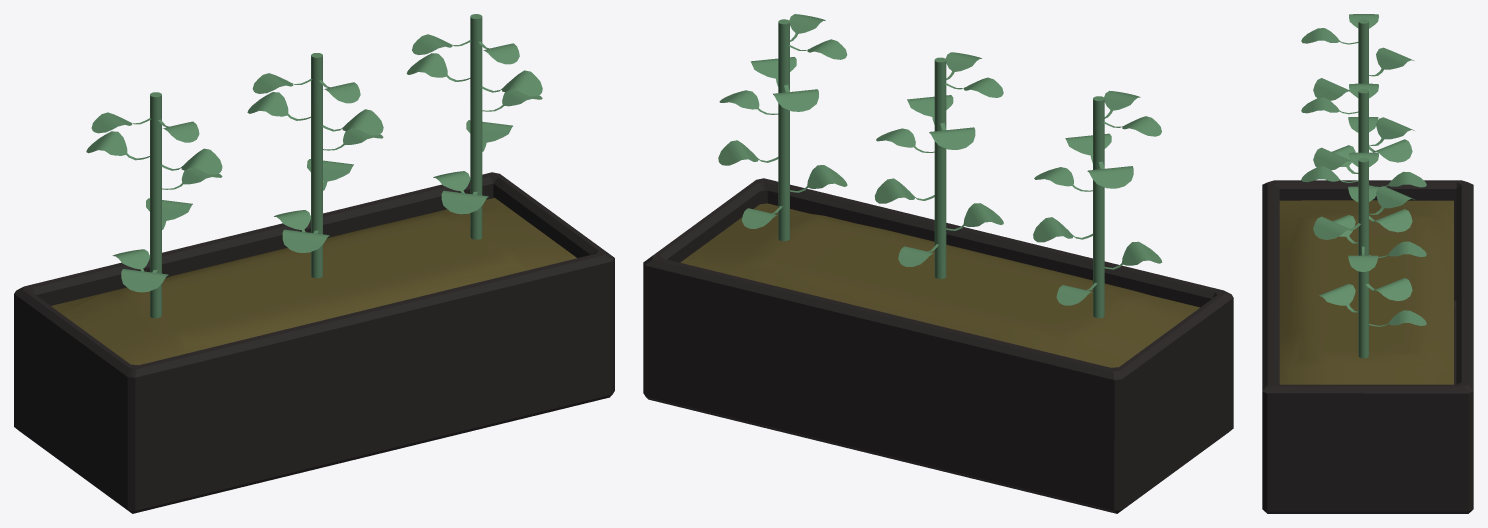
Rendered from Planting Vase.fbx.
The picture shows the model from 3 angles, left to right: view 1: azimuth 30°, elevation 25°; view 2: azimuth 150°, elevation 25°; view 3: azimuth 270°, elevation 25°; orthographic projection. The views are drawn at different scales.
Parts seen in each view (by area): view 1: pCube1, pPlane1, pCylinder1, pCylinder2, pCylinder3, pPlane9 (×3), pPlane12 (×3), pPlane10 (×3); view 2: pCube1, pPlane1, pCylinder3, pPlane12 (×3), pCylinder1, pCylinder2, pPlane11 (×3), pPlane9 (×3); view 3: pCube1, pPlane1, pCylinder1, pPlane11 (×3), pPlane12 (×3), pPlane10 (×3), pPlane8 (×3), pPlane6 (×3), pPlane9 (×3), pPlane7 (×3), pPlane5 (×2), pCylinder2 (+1 smaller).
Boxes of the visible parts, <box> form: pCube1: <box>14,172,614,513</box>; pPlane1: <box>51,197,576,365</box>; pCylinder1: <box>470,14,482,239</box>; pCylinder2: <box>150,92,161,318</box>; pCylinder3: <box>311,53,322,278</box>; pPlane9 (×3): <box>121,190,488,292</box>; pPlane12 (×3): <box>86,53,470,160</box>; pPlane10 (×3): <box>161,70,542,174</box>; pCube1: <box>643,178,1233,513</box>; pPlane1: <box>680,203,1199,367</box>; pCylinder3: <box>934,57,946,278</box>; pPlane12 (×3): <box>773,84,1133,188</box>; pCylinder1: <box>778,19,789,241</box>; pCylinder2: <box>1093,96,1104,318</box>; pPlane11 (×3): <box>718,140,1093,242</box>; pPlane9 (×3): <box>790,165,1162,269</box>; pCube1: <box>1262,180,1473,513</box>; pPlane1: <box>1279,200,1453,384</box>; pCylinder1: <box>1358,158,1368,358</box>; pPlane11 (×3): <box>1365,139,1412,301</box>; pPlane12 (×3): <box>1369,47,1414,214</box>; pPlane10 (×3): <box>1313,78,1360,239</box>; pPlane8 (×3): <box>1301,28,1358,182</box>; pPlane6 (×3): <box>1369,171,1426,326</box>; pPlane9 (×3): <box>1319,145,1358,312</box>; pPlane7 (×3): <box>1349,14,1378,166</box>; pPlane5 (×2): <box>1348,186,1378,271</box>; pCylinder2: <box>1358,19,1368,83</box>.
Bounding box in the file's own units: 11.68 × 8.26 × 4.95.
